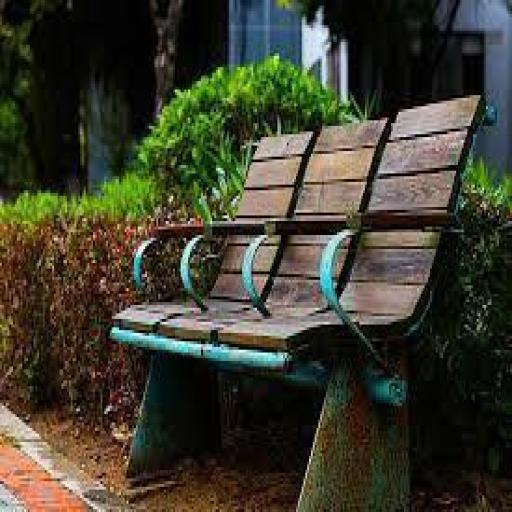chair: (123, 90, 490, 498)
